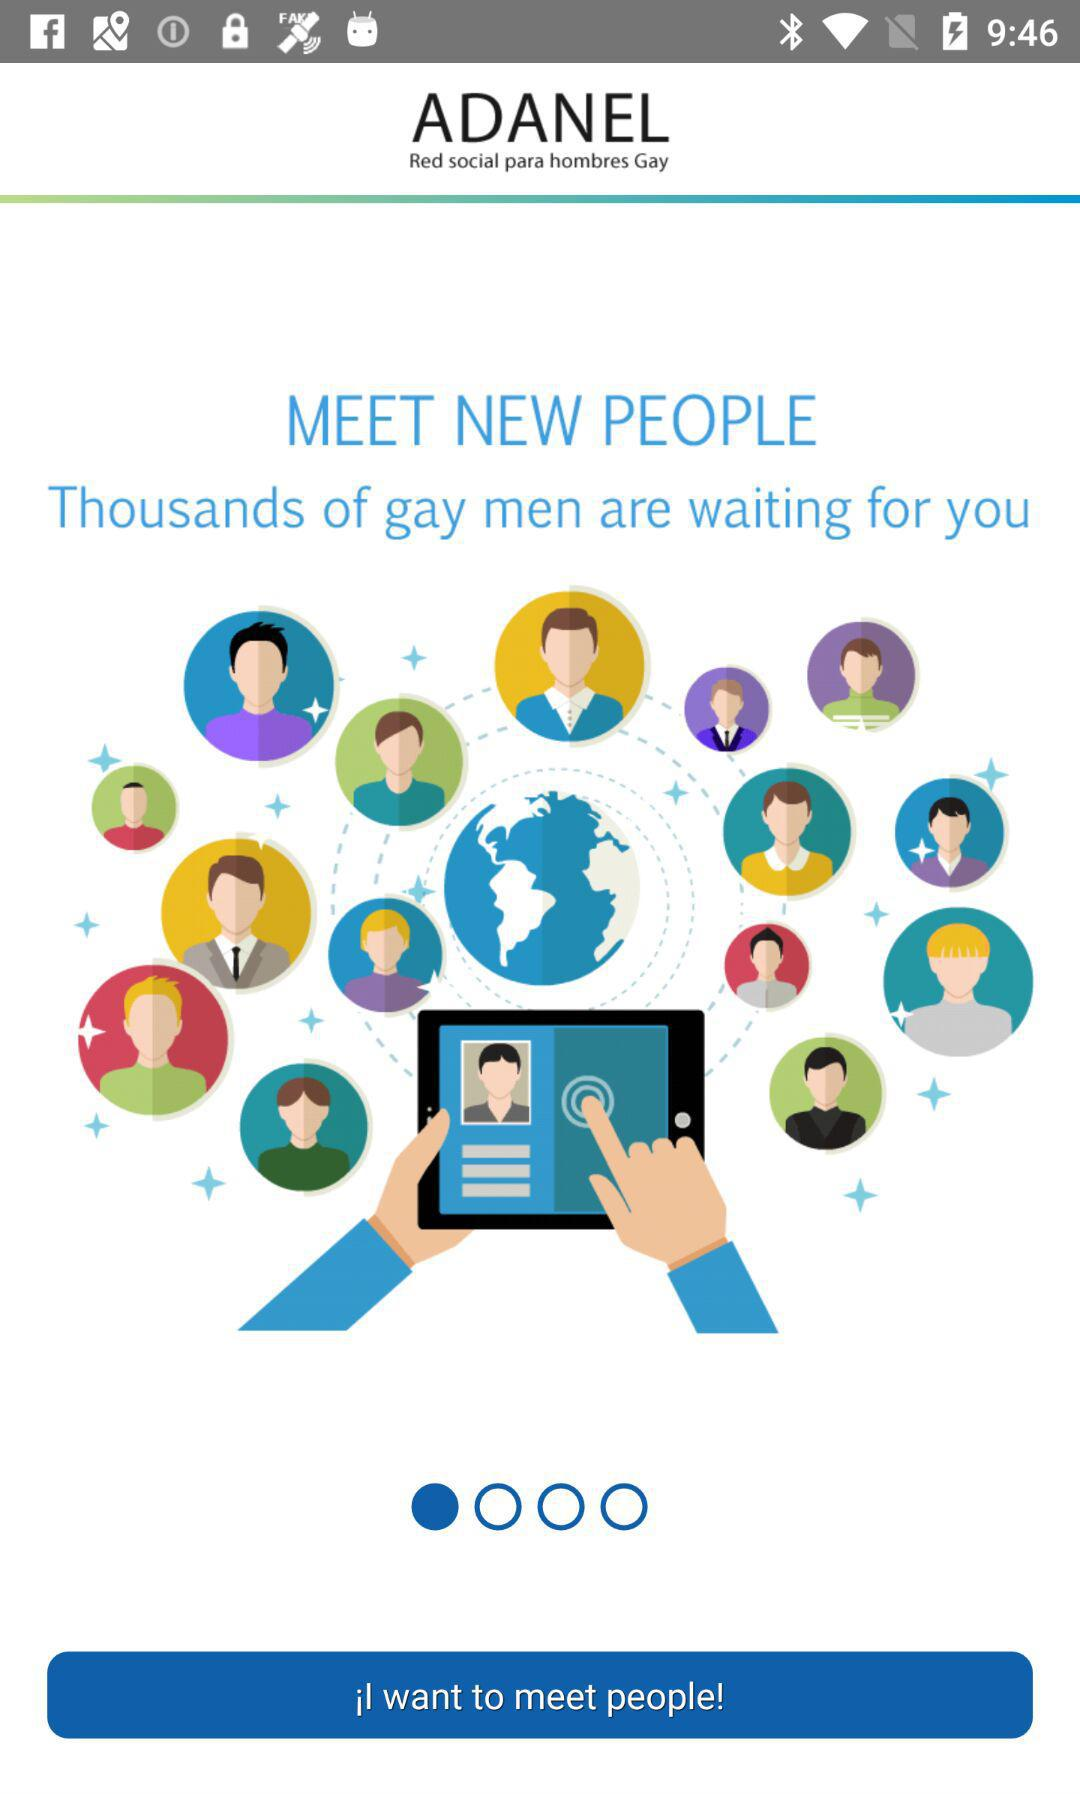Image: (72, 583, 1035, 1334), (407, 92, 673, 176)
PageIndicator: (410, 1483, 650, 1533)
Text: (47, 484, 1030, 543), (287, 393, 817, 448)
TextButton: (47, 1650, 1034, 1740)
UpperTaskBar: (1, 1, 1080, 64)
